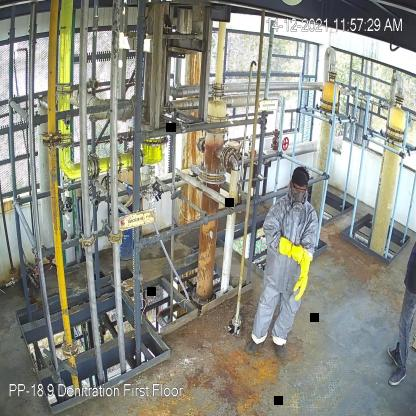goggles: (290, 185, 307, 194)
mask: (290, 192, 305, 212)
